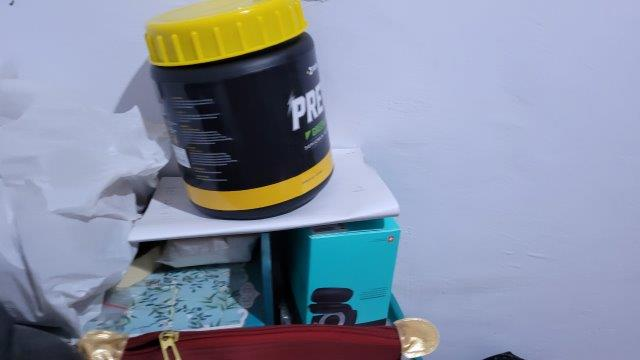kertas: (130, 147, 401, 241)
